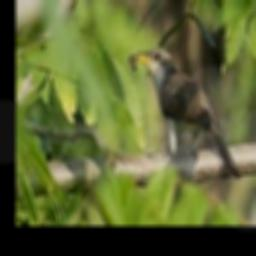Cuckoo: (130, 48, 241, 178)
